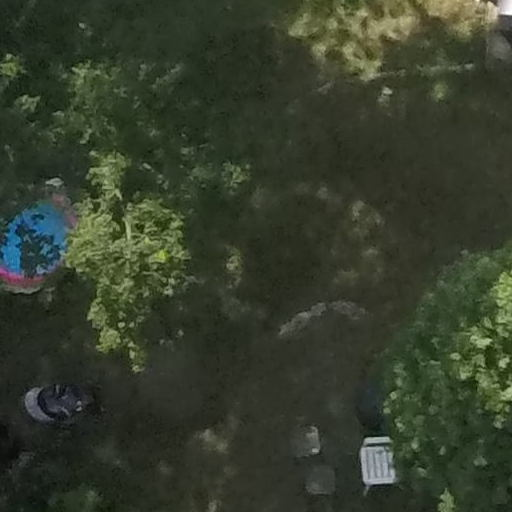pool: (1, 186, 112, 293)
